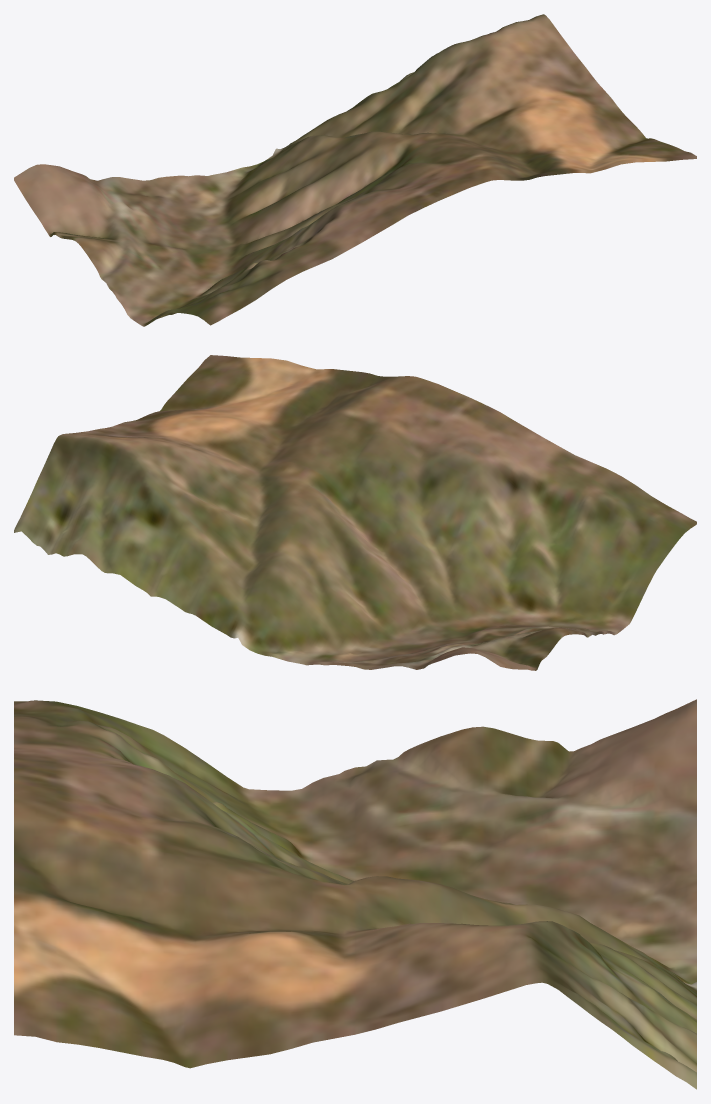
The model's file is terrain_r0_c3_lod1.glb.
3 renders of one model, top to bottom at view 1: azimuth 30°, elevation 25°; view 2: azimuth 150°, elevation 25°; view 3: azimuth 270°, elevation 25°, orthographic. The views are drawn at different scales.
Parts seen in each view (by area): view 1: terrain_r0_c3_lod1; view 2: terrain_r0_c3_lod1; view 3: terrain_r0_c3_lod1.
Boxes of the visible parts, box(x1,y1,x2,y2) form: terrain_r0_c3_lod1: box(14, 14, 696, 326); terrain_r0_c3_lod1: box(14, 355, 696, 670); terrain_r0_c3_lod1: box(14, 699, 696, 1089).
Size of the model in its own units: 1125 by 297 by 787.
1 material, 1 textured.
